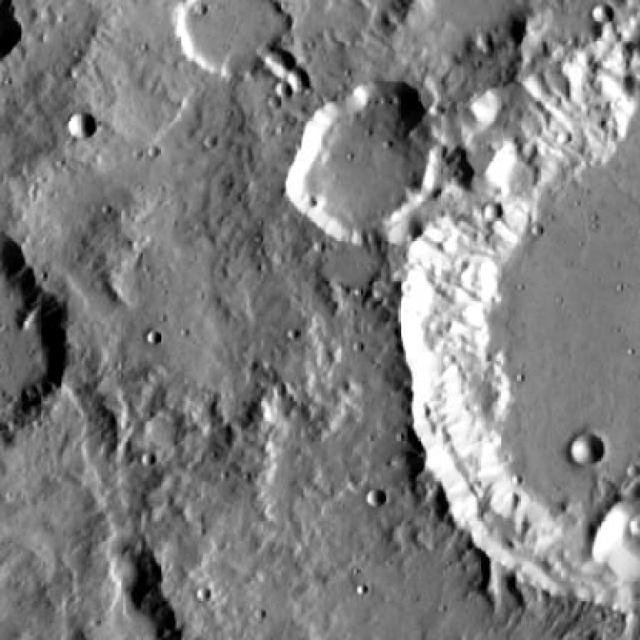crater: (395, 47, 640, 621), (273, 83, 442, 243), (0, 238, 58, 438), (178, 0, 287, 75), (594, 503, 640, 586), (570, 433, 605, 465), (64, 110, 96, 139), (265, 50, 293, 76), (286, 69, 312, 94), (366, 491, 386, 509), (484, 200, 504, 218), (594, 3, 612, 20), (623, 518, 640, 532), (146, 333, 162, 344)
